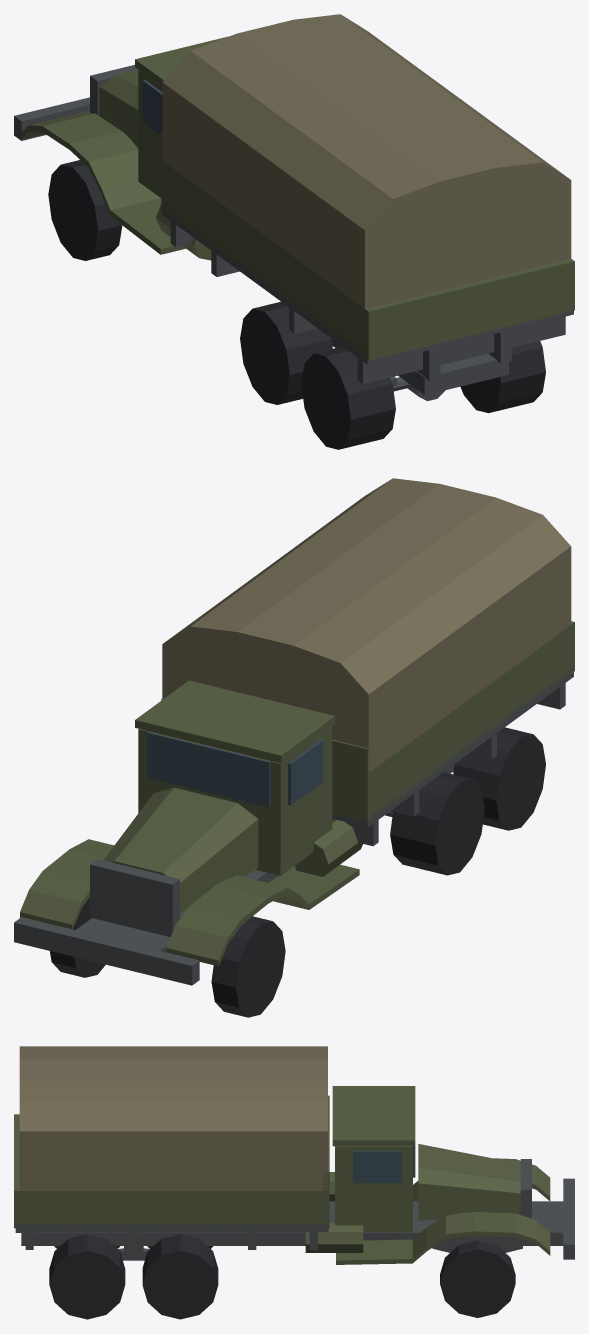
Rendered from cckw.glb.
3 views of the same model, one above another, from view 1: azimuth 30°, elevation 25°; view 2: azimuth 150°, elevation 25°; view 3: azimuth 270°, elevation 25° (orthographic). The views are drawn at different scales.
Parts seen in each view (by area): view 1: CK_Tilt, CK_BedTail, CK_BedSide_L, CK_Fender_L, CK_WheelR_L1, CK_WheelR_L0, CK_WheelF_L, CK_WheelR_R1, CK_BedCross_3, CK_BedFloor, CK_Frame, CK_Hood (+8 smaller); view 2: CK_Tilt, CK_Hood, CK_BedSide_L, CK_CabRoof, CK_Cab, CK_Fender_L, CK_WheelR_L0, CK_Windscreen, CK_WheelR_L1, CK_WheelF_L, CK_Grille, CK_Bumper (+7 smaller); view 3: CK_Tilt, CK_BedSide_R, CK_Hood, CK_Frame, CK_WheelR_R0, CK_WheelR_R1, CK_CabRoof, CK_Cab, CK_Fender_R, CK_WheelF_R, CK_BedFloor, CK_SideWindow_R (+6 smaller).
Part boxes in pixels (<box>): CK_Tilt: <box>162,14,571,308</box>; CK_BedTail: <box>364,259,574,360</box>; CK_BedSide_L: <box>161,162,373,359</box>; CK_Fender_L: <box>20,112,185,254</box>; CK_WheelR_L1: <box>301,346,395,449</box>; CK_WheelR_L0: <box>240,301,332,404</box>; CK_WheelF_L: <box>48,160,122,260</box>; CK_WheelR_R1: <box>460,341,545,413</box>; CK_BedCross_3: <box>357,316,565,383</box>; CK_BedFloor: <box>161,209,573,364</box>; CK_Frame: <box>86,111,508,394</box>; CK_Hood: <box>99,69,138,148</box>; CK_Tilt: <box>162,478,571,772</box>; CK_Hood: <box>103,787,258,912</box>; CK_BedSide_L: <box>372,622,573,818</box>; CK_CabRoof: <box>135,680,335,763</box>; CK_Cab: <box>138,726,332,875</box>; CK_Fender_L: <box>166,864,359,966</box>; CK_WheelR_L0: <box>390,772,484,875</box>; CK_Windscreen: <box>147,732,270,807</box>; CK_WheelR_L1: <box>453,727,545,830</box>; CK_WheelF_L: <box>211,916,285,1017</box>; CK_Grille: <box>90,859,179,936</box>; CK_Bumper: <box>14,917,199,985</box>; CK_Tilt: <box>19,1046,327,1190</box>; CK_BedSide_R: <box>15,1188,328,1227</box>; CK_Hood: <box>418,1144,520,1220</box>; CK_Frame: <box>21,1201,563,1245</box>; CK_WheelR_R0: <box>142,1234,218,1319</box>; CK_WheelR_R1: <box>49,1234,125,1319</box>; CK_CabRoof: <box>332,1086,415,1146</box>; CK_Cab: <box>335,1146,412,1231</box>; CK_Fender_R: <box>336,1212,550,1264</box>; CK_WheelF_R: <box>440,1240,515,1317</box>; CK_BedFloor: <box>15,1224,328,1231</box>; CK_SideWindow_R: <box>352,1150,401,1183</box>.
Bounding box in the file's own units: 2.2 × 2.86 × 6.81.
